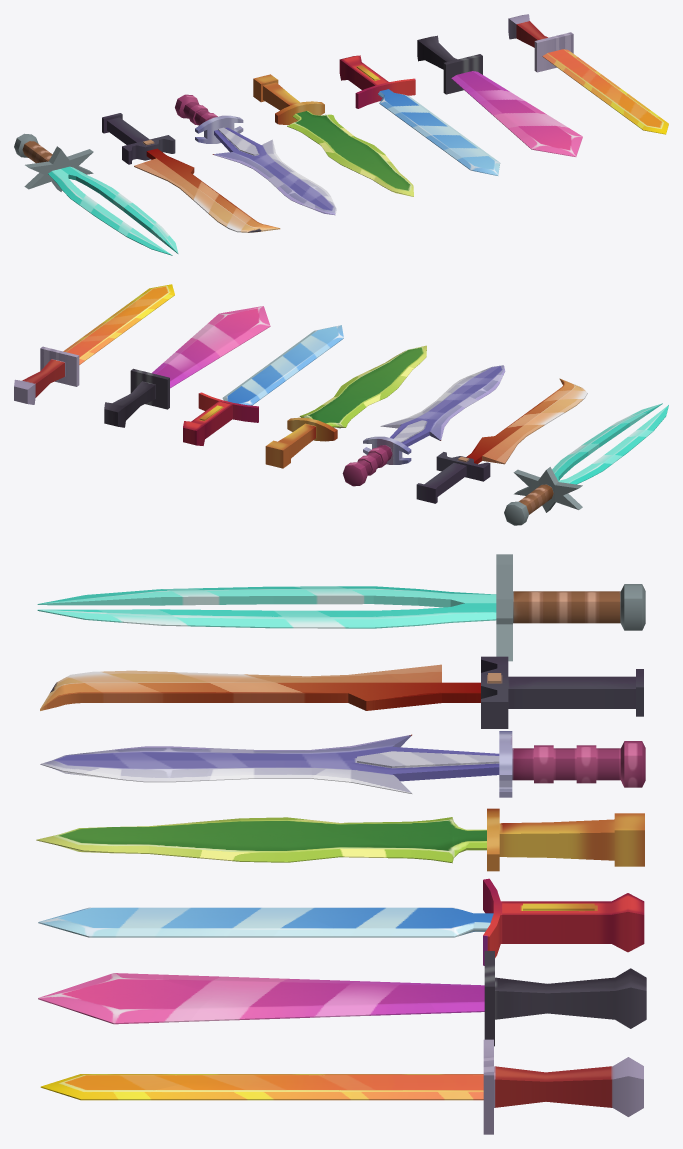
The model's file is Sword_Cut.fbx.
3 views of the same model, one above another, from view 1: azimuth 30°, elevation 25°; view 2: azimuth 150°, elevation 25°; view 3: azimuth 270°, elevation 25° (orthographic). The views are drawn at different scales.
Visible parts, largest first — view 1: polySurface14, polySurface34, polySurface18, polySurface8, polySurface13, polySurface30, polySurface12, polySurface15, polySurface43, polySurface42, polySurface11, polySurface31 (+9 smaller); view 2: polySurface14, polySurface18, polySurface34, polySurface8, polySurface30, polySurface13, polySurface12, polySurface43, polySurface15, polySurface42, polySurface11, polySurface31 (+9 smaller); view 3: polySurface14, polySurface18, polySurface8, polySurface34, polySurface13, polySurface30, polySurface12, polySurface15, polySurface42, polySurface43, polySurface11, polySurface31 (+10 smaller).
Part boxes in pixels (bbox=[...]): polySurface14: bbox=[339, 55, 436, 131]; polySurface34: bbox=[14, 133, 104, 203]; polySurface18: bbox=[253, 74, 339, 152]; polySurface8: bbox=[508, 14, 602, 86]; polySurface13: bbox=[464, 80, 560, 139]; polySurface30: bbox=[102, 113, 175, 175]; polySurface12: bbox=[417, 35, 490, 94]; polySurface15: bbox=[417, 116, 500, 175]; polySurface43: bbox=[175, 94, 243, 148]; polySurface42: bbox=[212, 134, 310, 188]; polySurface11: bbox=[520, 121, 582, 156]; polySurface31: bbox=[191, 194, 280, 232]; polySurface14: bbox=[183, 372, 290, 445]; polySurface18: bbox=[265, 397, 380, 468]; polySurface34: bbox=[504, 458, 610, 525]; polySurface8: bbox=[14, 335, 115, 404]; polySurface30: bbox=[416, 448, 512, 503]; polySurface13: bbox=[152, 328, 256, 380]; polySurface12: bbox=[104, 368, 181, 427]; polySurface43: bbox=[342, 436, 418, 486]; polySurface15: bbox=[251, 325, 343, 377]; polySurface42: bbox=[380, 391, 478, 440]; polySurface11: bbox=[202, 306, 270, 336]; polySurface31: bbox=[524, 378, 587, 426]; polySurface14: bbox=[301, 878, 644, 965]; polySurface18: bbox=[306, 808, 644, 871]; polySurface8: bbox=[319, 1039, 643, 1134]; polySurface34: bbox=[330, 554, 645, 661]; polySurface13: bbox=[163, 974, 436, 1021]; polySurface30: bbox=[384, 656, 643, 728]; polySurface12: bbox=[421, 951, 646, 1046]; polySurface15: bbox=[38, 907, 342, 937]; polySurface42: bbox=[192, 734, 458, 793]; polySurface43: bbox=[430, 731, 645, 797]; polySurface11: bbox=[38, 973, 215, 1024]; polySurface31: bbox=[40, 670, 252, 710].
Size of the model in its own units: 385 by 29.3 by 187.
